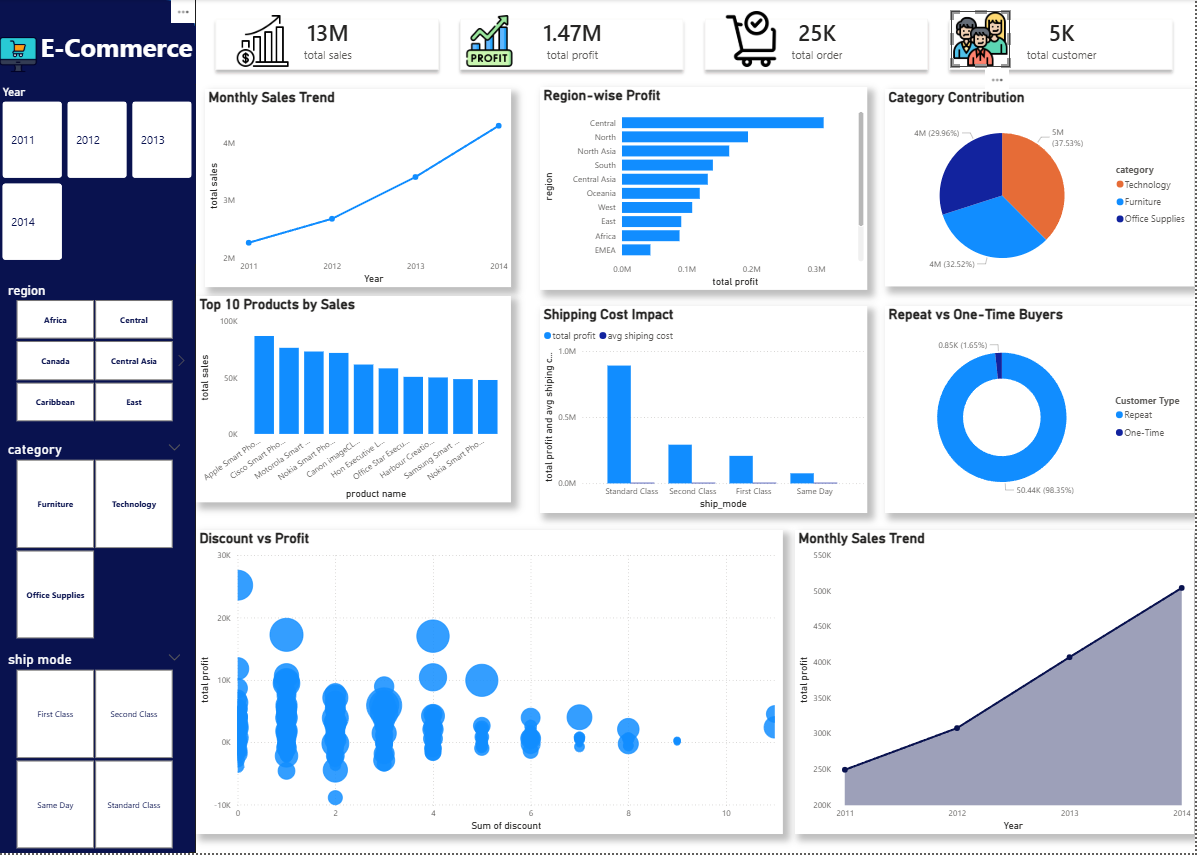

What the dashboard file says about the page in this screenshot:
{"tool":"powerbi","page":{"name":"Page 1","canvas":[1750,1250],"ordinal":0},"visuals":[{"type":"shape","box":[0,0,288.3,1250],"z":0},{"type":"textbox","box":[55.4,38.9,233.5,84.9],"z":1000},{"type":"cardVisual","fields":{"Data":["superstore cleaned (2).total sales","superstore cleaned (2).total profit","superstore cleaned (2).total order","superstore cleaned (2).total customer"]},"box":[288.9,0,1461.1,132.1],"z":1001},{"type":"lineChart","title":"Monthly Sales Trend","fields":{"Category":["superstore cleaned (2).order date.Variation.Date Hierarchy.Year","superstore cleaned (2).order date.Variation.Date Hierarchy.Month"],"Y":["superstore cleaned (2).total sales"]},"box":[301.5,131.7,447.9,289.8],"z":1002},{"type":"clusteredBarChart","title":"Region-wise Profit","fields":{"Category":["superstore cleaned (2).region"],"Y":["superstore cleaned (2).total profit"]},"box":[791.3,128.5,478.8,297.2],"z":1003},{"type":"pieChart","title":"Category Contribution","fields":{"Category":["superstore cleaned (2).category"],"Y":["superstore cleaned (2).total sales"]},"box":[1297.2,132.1,452.8,288.9],"z":1004},{"type":"columnChart","title":"Top 10 Products by Sales","fields":{"Category":["superstore cleaned (2).product name"],"Y":["superstore cleaned (2).total sales"]},"box":[288.6,434.8,461.4,301.9],"z":1005},{"type":"scatterChart","title":"Discount vs Profit","fields":{"X":["Sum(superstore cleaned (2).discount)"],"Y":["superstore cleaned (2).total profit"],"Size":["superstore cleaned (2).total sales"],"Category":["superstore cleaned (2).product name"]},"box":[288.3,777.2,859.2,445],"z":1006},{"type":"clusteredColumnChart","title":"Shipping Cost Impact","fields":{"Category":["superstore cleaned (2).ship_mode"],"Y":["superstore cleaned (2).total profit","superstore cleaned (2).avg shiping cost"]},"box":[791.9,449.4,478.6,303],"z":1007},{"type":"donutChart","title":"Repeat vs One-Time Buyers","fields":{"Category":["superstore cleaned (2).Customer Type"],"Y":["CountNonNull(superstore cleaned (2).customer id)"]},"box":[1297,449,453,303],"z":1008},{"type":"areaChart","title":"Monthly Sales Trend","fields":{"Category":["superstore cleaned (2).order date.Variation.Date Hierarchy.Year","superstore cleaned (2).order date.Variation.Date Hierarchy.Month"],"Y":["superstore cleaned (2).total profit"]},"box":[1165.1,777.2,584,445],"z":1009},{"type":"advancedSlicerVisual","fields":{"Values":["superstore cleaned (2).order date.Variation.Date Hierarchy.Year"]},"box":[0,125.9,288.3,262],"z":1010},{"type":"slicer","fields":{"Values":["superstore cleaned (2).region"]},"box":[0,409.8,278.1,215.2],"z":1011},{"type":"slicer","fields":{"Values":["superstore cleaned (2).category"]},"box":[0,642.6,278.1,300.1],"z":1012},{"type":"slicer","fields":{"Values":["superstore cleaned (2).ship_mode"]},"box":[0,949.9,278.1,300.1],"z":1013},{"type":"image","box":[0,46.8,55.6,68.8],"z":1014},{"type":"image","box":[324.9,23.4,121.5,76.1],"z":1015},{"type":"image","box":[674.8,23.4,86.4,76.1],"z":1016},{"type":"image","box":[1018.7,17.6,163.9,82],"z":1017},{"type":"image","box":[1393.4,17.6,86.4,82],"z":1018}]}

Visuals, with their boxes in screenshot pixels (x1, y1, x2, y2):
shape: pyautogui.locateOnScreen(0, 9, 194, 853)
textbox: pyautogui.locateOnScreen(37, 36, 195, 93)
cardVisual - superstore cleaned (2).total sales x superstore cleaned (2).total profit: pyautogui.locateOnScreen(195, 9, 1180, 98)
"Monthly Sales Trend" lineChart: pyautogui.locateOnScreen(203, 98, 506, 294)
"Region-wise Profit" clusteredBarChart: pyautogui.locateOnScreen(534, 96, 857, 297)
"Category Contribution" pieChart: pyautogui.locateOnScreen(875, 98, 1180, 293)
"Top 10 Products by Sales" columnChart: pyautogui.locateOnScreen(195, 303, 506, 506)
"Discount vs Profit" scatterChart: pyautogui.locateOnScreen(194, 534, 774, 834)
"Shipping Cost Impact" clusteredColumnChart: pyautogui.locateOnScreen(534, 312, 857, 517)
"Repeat vs One-Time Buyers" donutChart: pyautogui.locateOnScreen(875, 312, 1180, 517)
"Monthly Sales Trend" areaChart: pyautogui.locateOnScreen(786, 534, 1180, 834)
advancedSlicerVisual - superstore cleaned (2).order date.Variation.Date Hierarchy.Year: pyautogui.locateOnScreen(0, 94, 194, 271)
slicer - superstore cleaned (2).region: pyautogui.locateOnScreen(0, 286, 188, 431)
slicer - superstore cleaned (2).category: pyautogui.locateOnScreen(0, 443, 188, 645)
slicer - superstore cleaned (2).ship_mode: pyautogui.locateOnScreen(0, 650, 188, 853)
image: pyautogui.locateOnScreen(0, 41, 38, 87)
image: pyautogui.locateOnScreen(219, 25, 301, 76)
image: pyautogui.locateOnScreen(455, 25, 513, 76)
image: pyautogui.locateOnScreen(687, 21, 798, 77)
image: pyautogui.locateOnScreen(940, 21, 998, 77)
